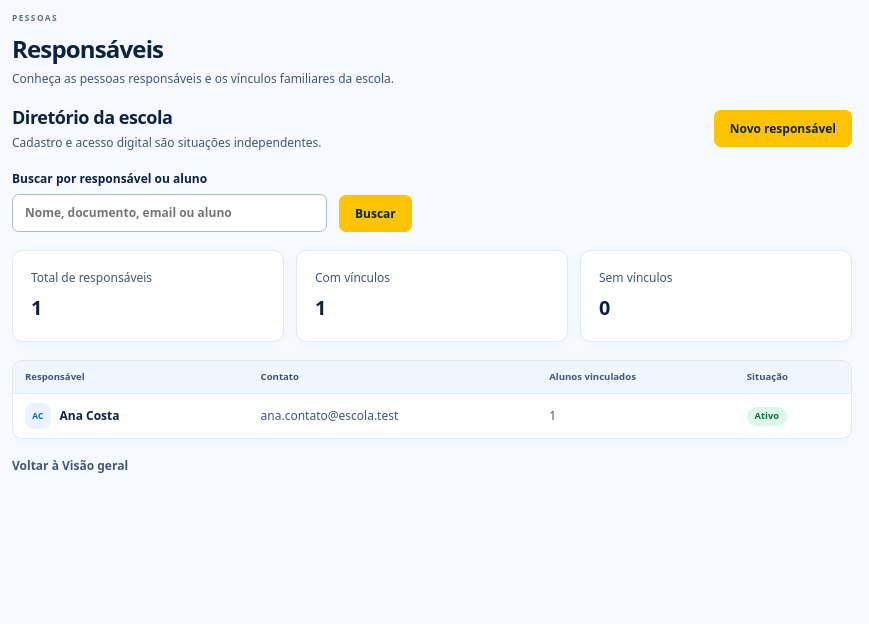
Test: Responsáveis › consulta lista paginada e perfil dedicado com aluno autorizado
Step 1. Click the link "Ana Costa" → (90, 415), box [60,407,120,424]
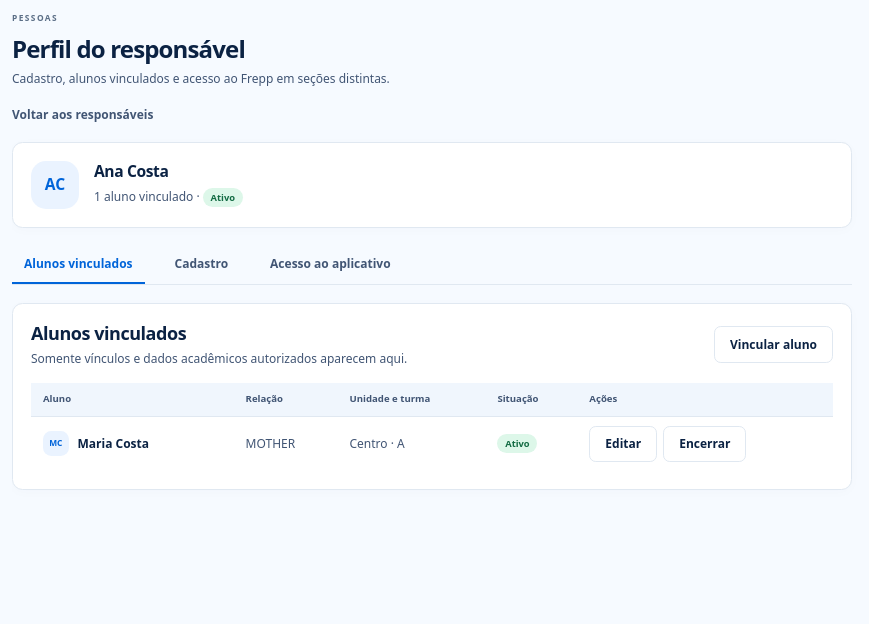
Step 2. Click the tab "Acesso ao aplicativo" → (330, 265), box [258,246,403,284]
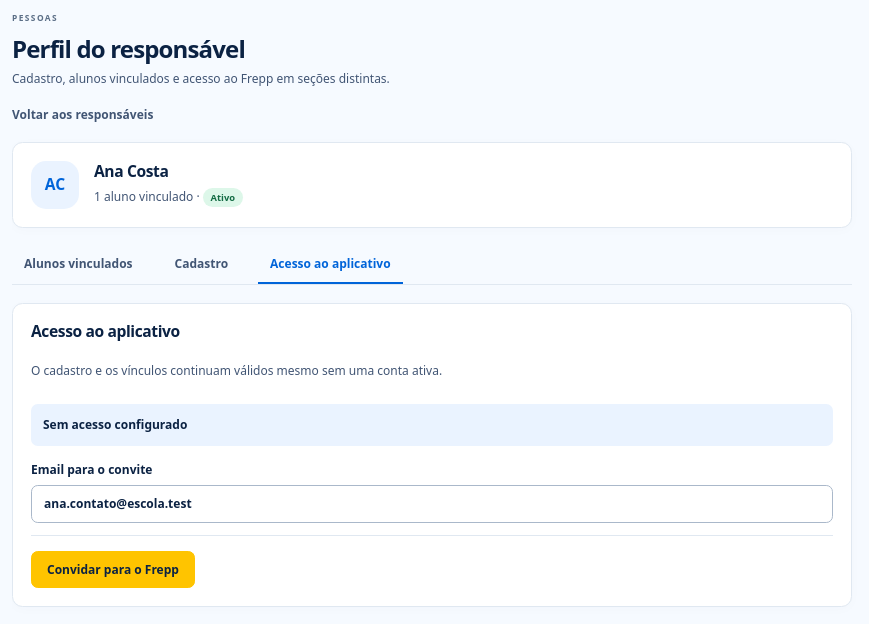
Now the text "Sem acesso configurado" is shown, box [43,416,187,433]
